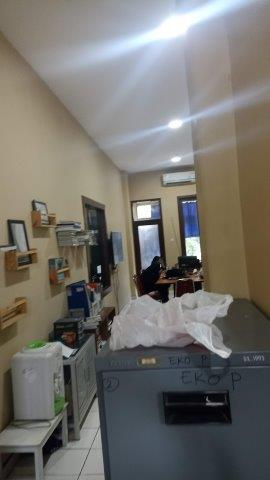plastik: (107, 292, 239, 359)
